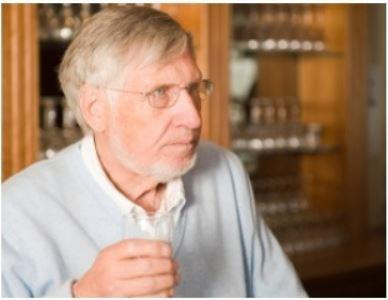Sober: (119, 56, 203, 175)
